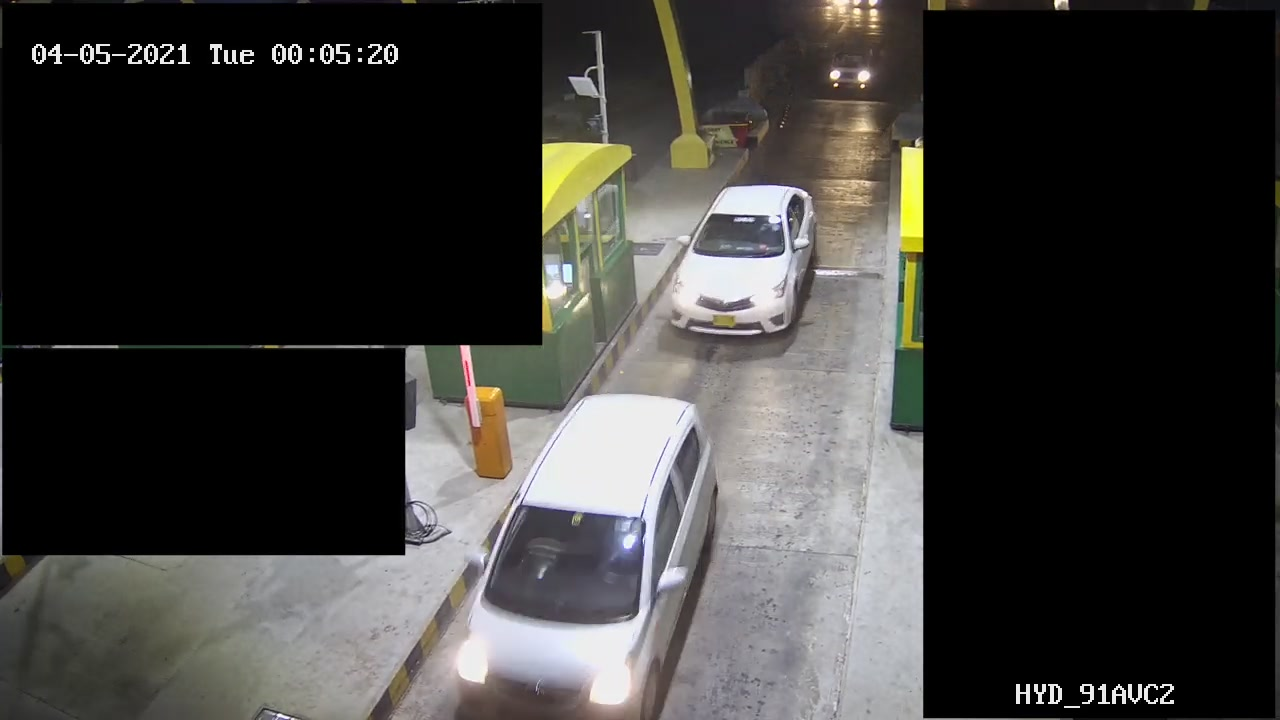F1: (664, 182, 836, 346)
